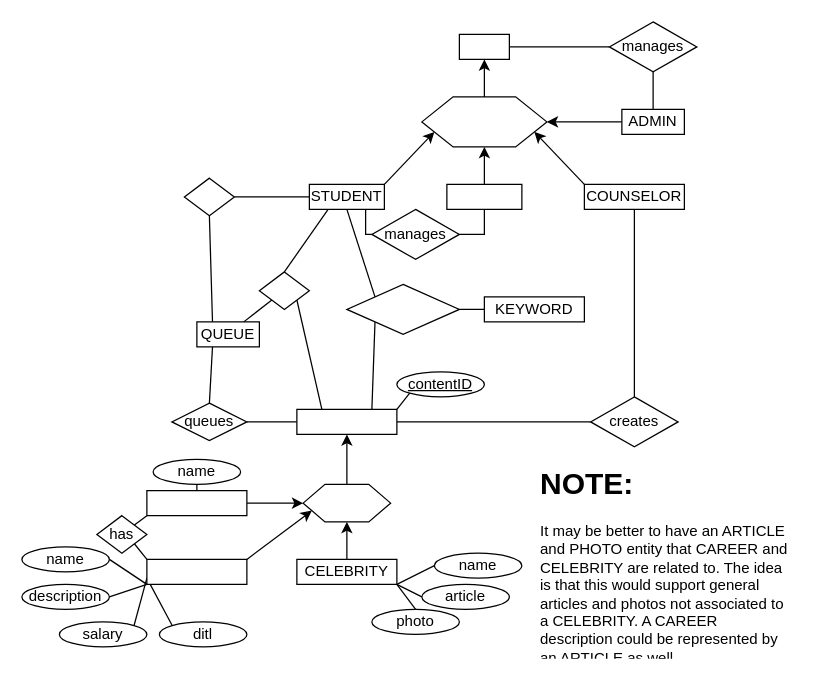
Some shapes in this 819 by 686 pixel diagram are drawn without their labels. The centre of each missing label's shape, as x and y in pixels:
associated to: pixel 402 308
CAREER: pixel 196 571
CLUSTER: pixel 196 502
CONTENT: pixel 346 421
is-a (disjoint): pixel 346 502
is-a (overlapping): pixel 484 121
TEACHER: pixel 484 196
USER: pixel 483 46
uses: pixel 208 196
views: pixel 283 290
